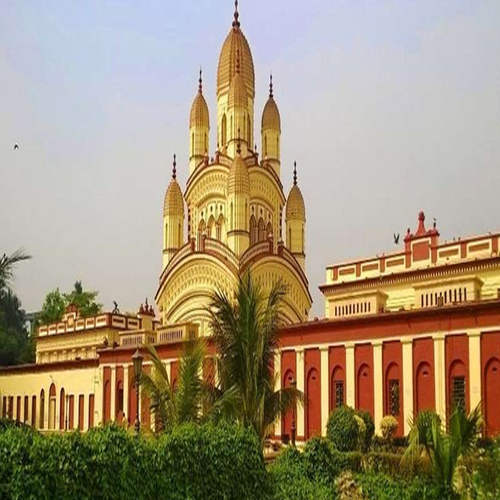Temple: (133, 1, 329, 345)
